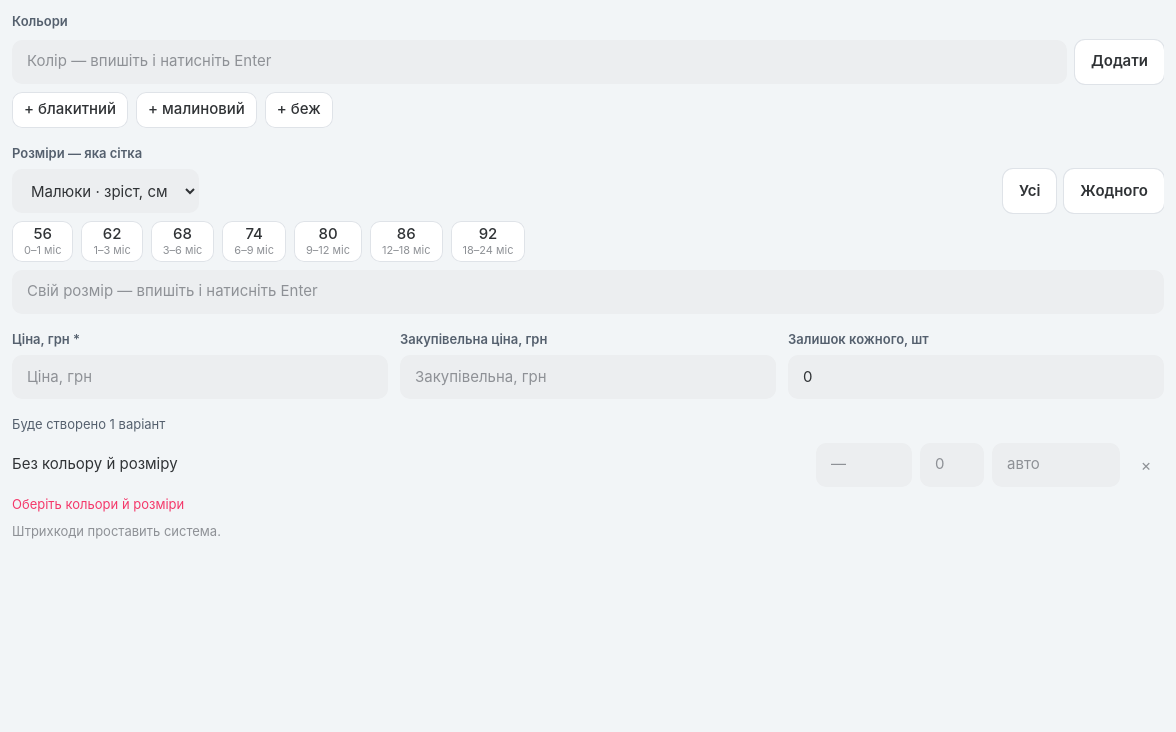
Test: VariantMatrix — a card that already has variants › recognises a pair typed with a slash as the one the card has saved with a hyphen
Type "беж" into the field named "Новий колір".
click(540, 62); type("беж")  # box [12,40,1067,84]
Then press Enter
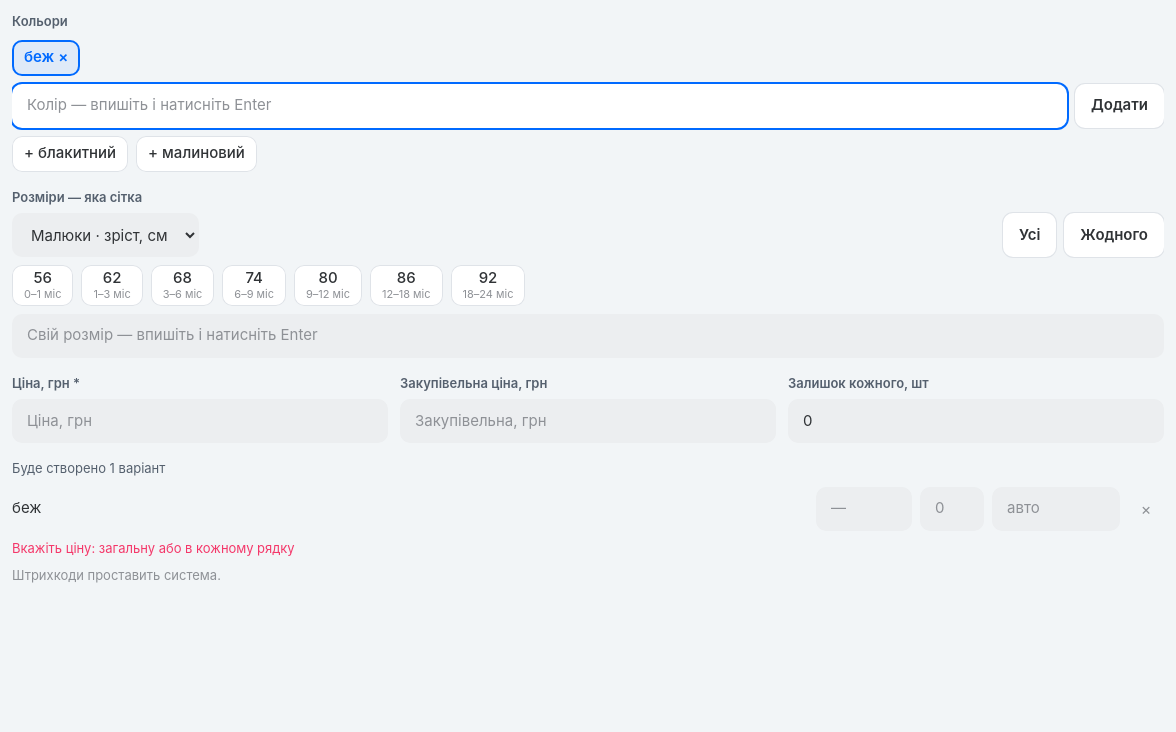
Type "98/104" into the field labelled "Свій розмір".
click(588, 336); type("98/104")  # box [12,314,1164,358]
Then press Enter
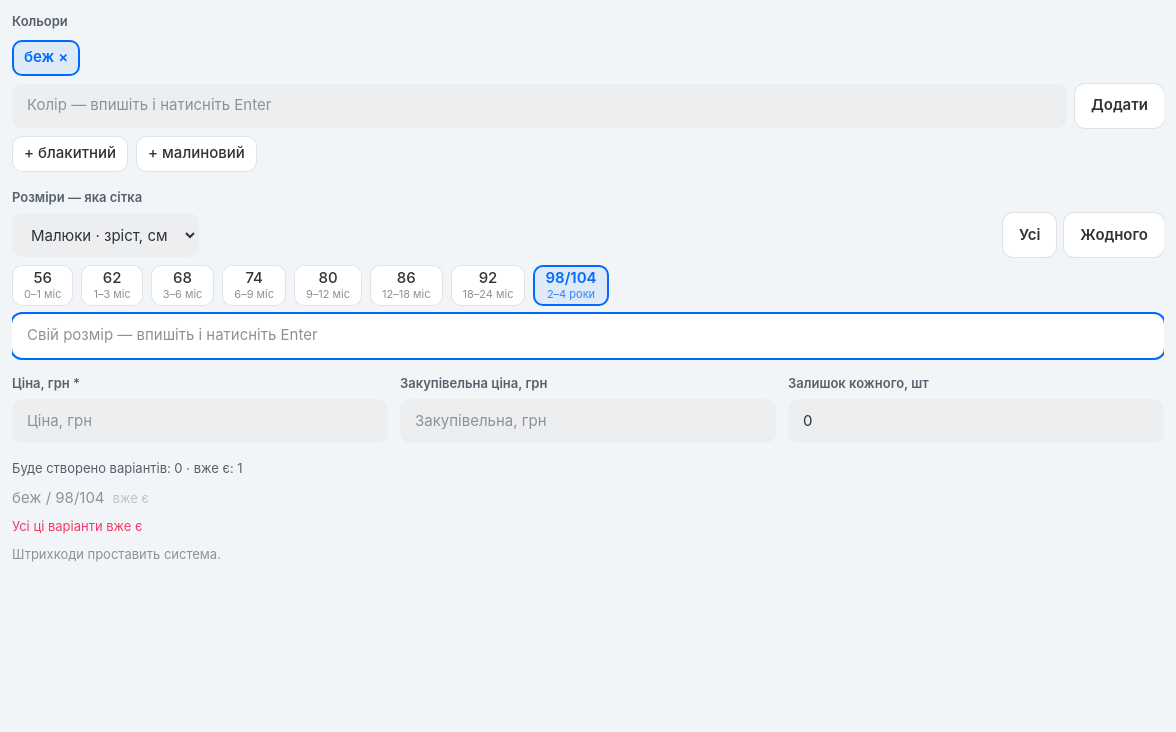
Expected: the list item with test id "matrix-row-0" shows "вже є", [113,490,149,506]
